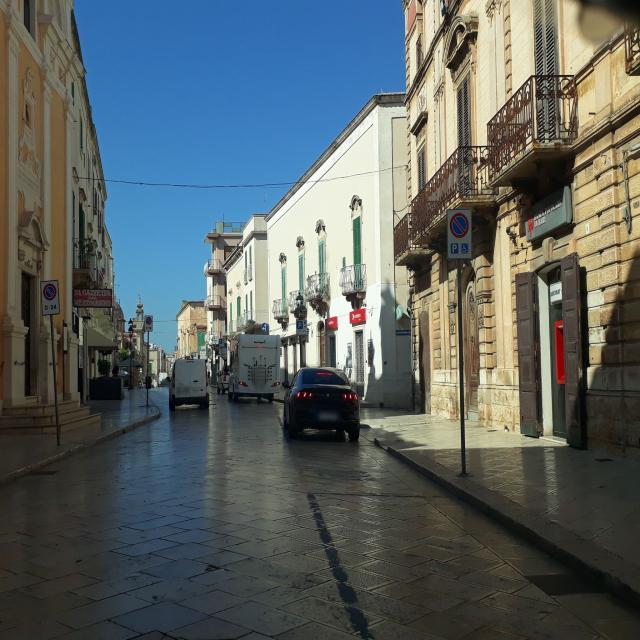forb_stopping: (449, 212, 469, 239), (43, 283, 57, 301)
